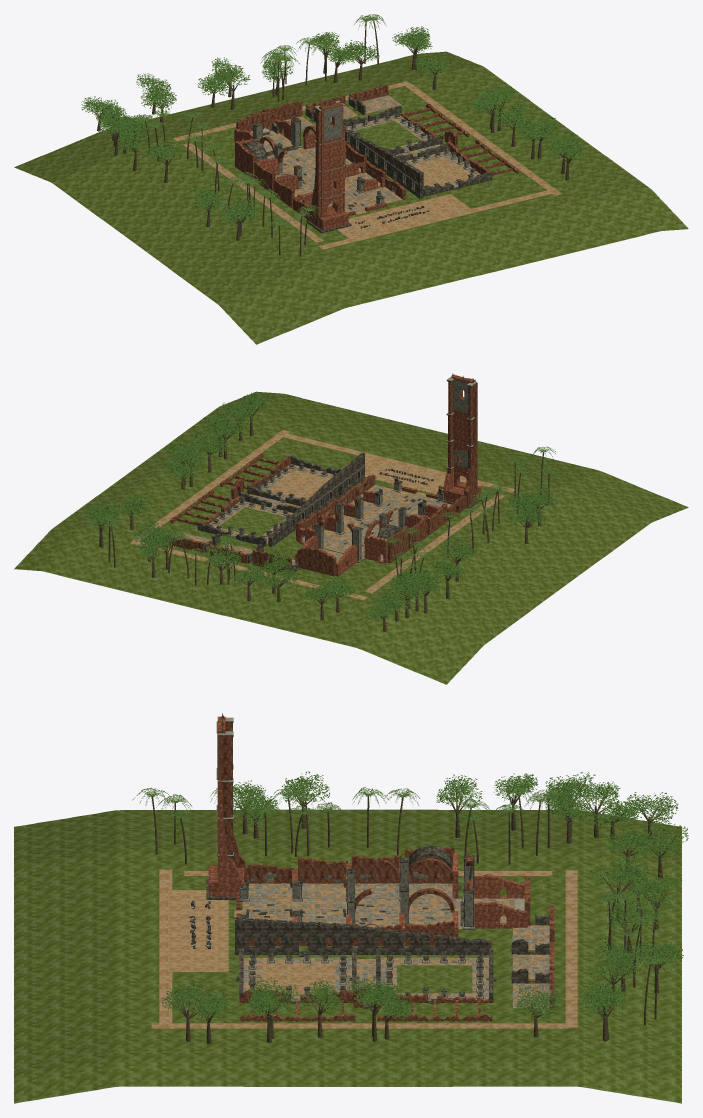
File: st-augustine-old-goa.glb
3 renders of one model, top to bottom at view 1: azimuth 30°, elevation 25°; view 2: azimuth 150°, elevation 25°; view 3: azimuth 270°, elevation 25°, orthographic. The views are drawn at different scales.
Parts seen in each view (by area): view 1: Ground — grass, Broadleaf canopy — leaf, Paths — sand, Palm leaflets — fern, Tower — red, East forecourt — sand, Chapel walls — laterite, Convent north range — stone, Coconut palms — bark, Perimeter trees — bark, Cloister end foundations — stone, Chapel divisions — red (+15 smaller); view 2: Ground — grass, Broadleaf canopy — leaf, Paths — sand, Chapel walls — laterite, Palm leaflets — fern, Convent north range — stone, Tower — laterite, Chapel divisions — red, East forecourt — sand, Coconut palms — bark, Tower — red, Perimeter trees — bark (+18 smaller); view 3: Ground — grass, Broadleaf canopy — leaf, Paths — sand, Convent north range — stone, Chapel walls — laterite, Palm leaflets — fern, East forecourt — sand, Nave floor — paving, Nave floor — sand, Coconut palms — bark, Perimeter trees — bark, Chancel sides — red (+20 smaller).
Part boxes in pixels (<box>): Ground — grass: <box>14,51,688,344</box>; Broadleaf canopy — leaf: <box>81,26,584,225</box>; Paths — sand: <box>173,81,561,249</box>; Palm leaflets — fern: <box>131,14,384,231</box>; Tower — red: <box>319,102,348,230</box>; East forecourt — sand: <box>337,194,472,239</box>; Chapel walls — laterite: <box>235,140,405,220</box>; Convent north range — stone: <box>330,121,423,198</box>; Coconut palms — bark: <box>145,20,378,256</box>; Perimeter trees — bark: <box>97,51,568,240</box>; Cloister end foundations — stone: <box>343,106,492,196</box>; Chapel divisions — red: <box>239,131,385,204</box>; Ground — grass: <box>14,391,688,684</box>; Broadleaf canopy — leaf: <box>85,392,558,620</box>; Paths — sand: <box>129,430,516,600</box>; Chapel walls — laterite: <box>296,474,466,563</box>; Palm leaflets — fern: <box>99,446,561,571</box>; Convent north range — stone: <box>268,452,364,546</box>; Tower — laterite: <box>447,381,477,506</box>; Chapel divisions — red: <box>298,489,439,563</box>; East forecourt — sand: <box>341,455,482,494</box>; Coconut palms — bark: <box>108,452,549,594</box>; Tower — red: <box>442,374,481,502</box>; Perimeter trees — bark: <box>99,414,541,631</box>; Ground — grass: <box>14,809,681,1103</box>; Broadleaf canopy — leaf: <box>161,771,688,1021</box>; Paths — sand: <box>151,869,577,1028</box>; Convent north range — stone: <box>235,917,491,954</box>; Chapel walls — laterite: <box>244,847,454,945</box>; Palm leaflets — fern: <box>133,785,678,974</box>; East forecourt — sand: <box>168,890,228,972</box>; Nave floor — paving: <box>243,898,462,926</box>; Nave floor — sand: <box>242,898,462,929</box>; Coconut palms — bark: <box>151,794,659,1025</box>; Perimeter trees — bark: <box>186,798,662,1044</box>; Chancel sides — red: <box>474,874,527,928</box>.
Bounding box in the file's own units: 170 × 56.56 × 167.
13 materials, 10 textured.
